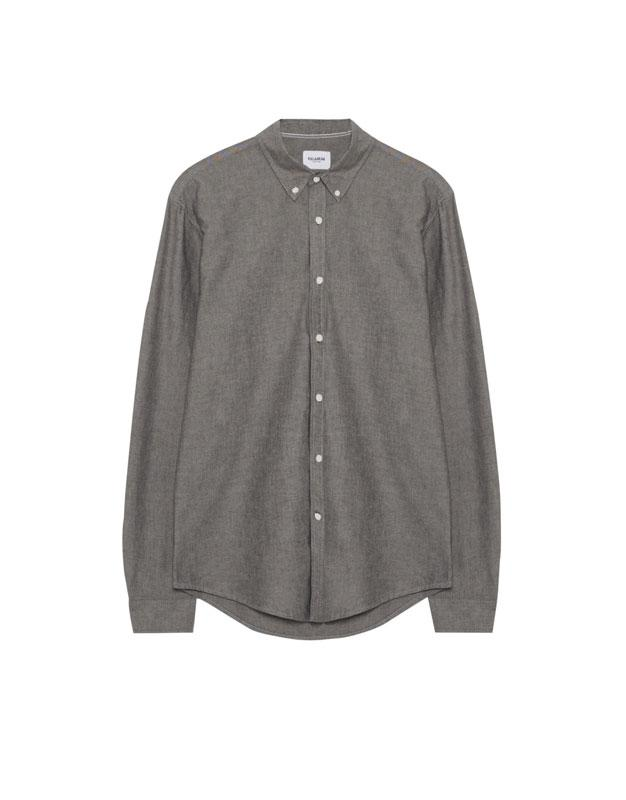teeshirt: (108, 103, 525, 651)
